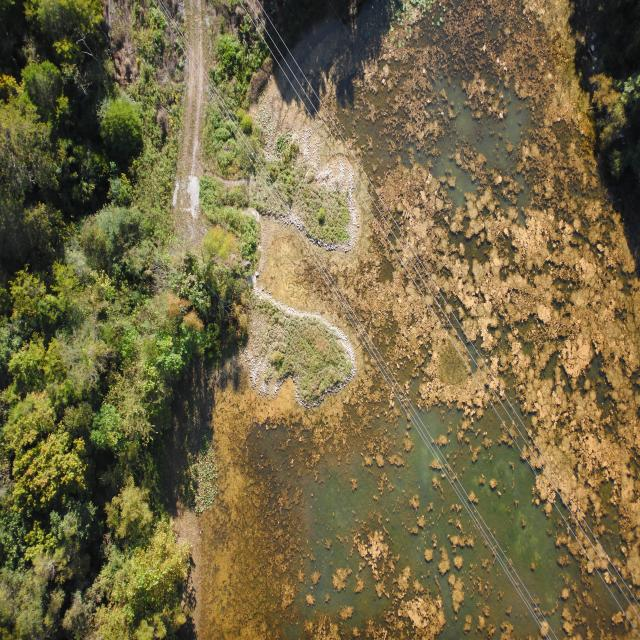Area of Interest: (9, 9, 232, 634)
